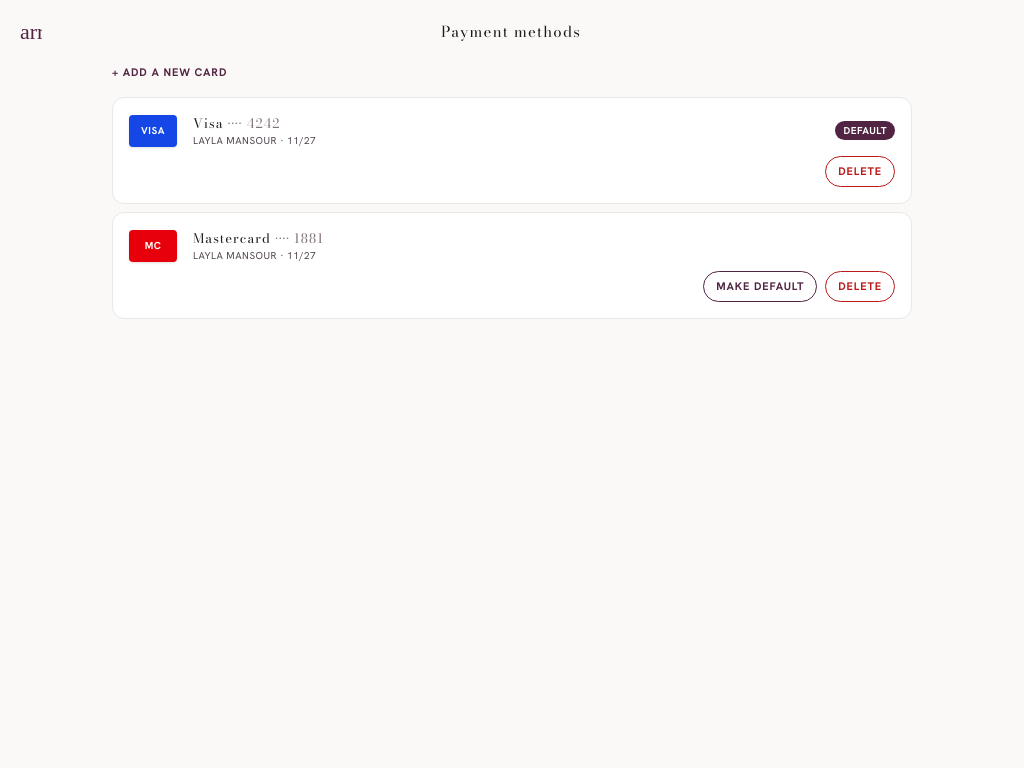
Scenario: SavedPaymentMethodsView (G-36) › Delete opens a confirmation modal
Click the 1st button "Delete" at {"x": 860, "y": 171}, box [825,156,895,186]
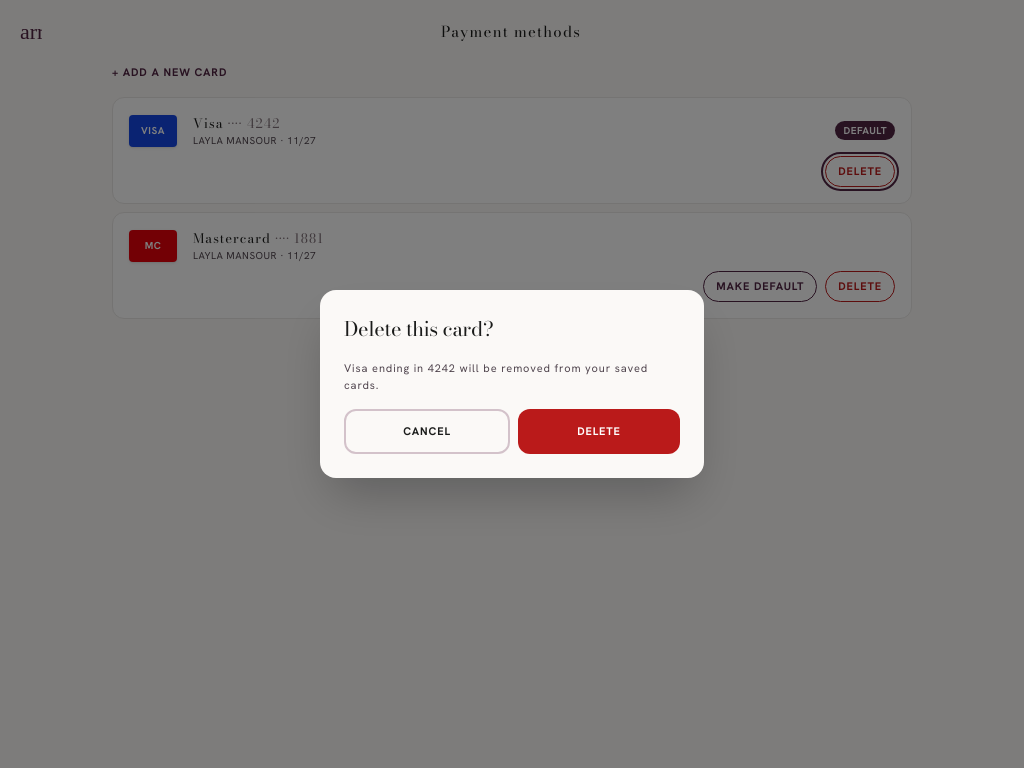
Result: the heading "Delete this card?" is shown at [344,313,493,344]
